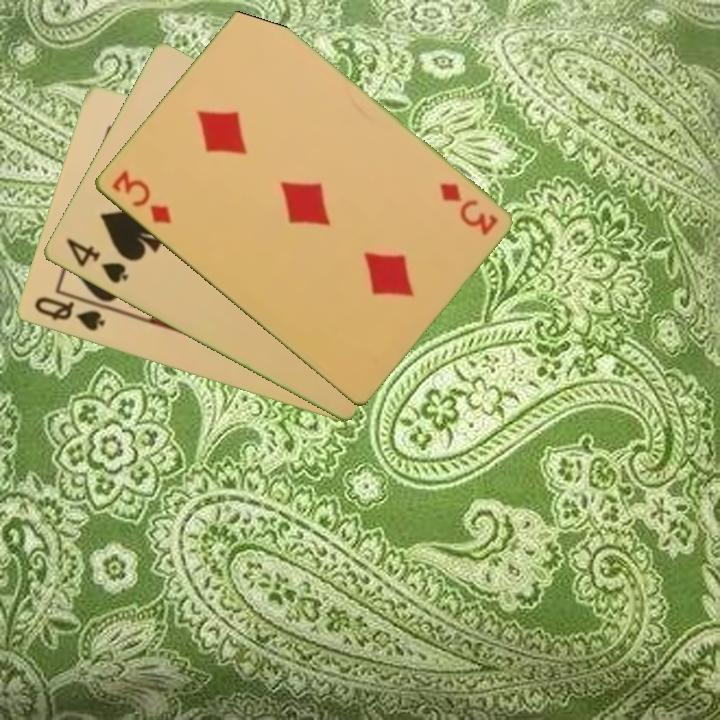3d: (107, 166, 174, 227), (435, 179, 501, 239)
4s: (62, 235, 131, 287)
Qs: (30, 293, 108, 335)
